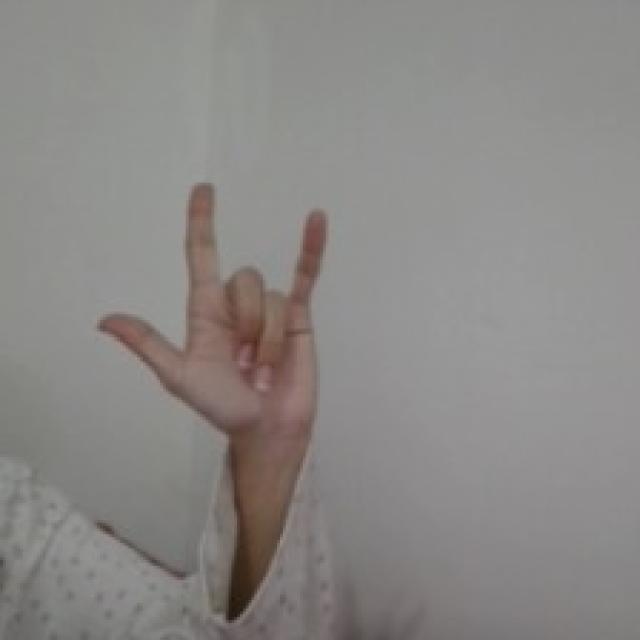love: (92, 173, 334, 445)
